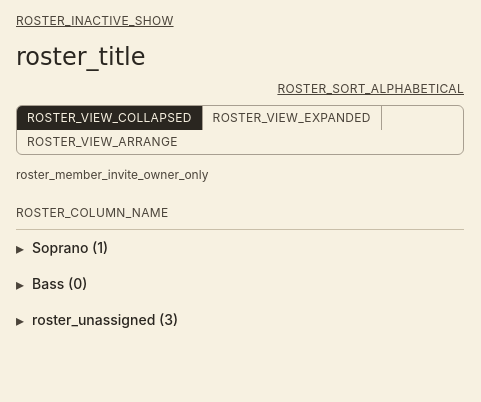
Test: /roster — F3: the org that gates remove is the AUTHENTICATED VIEWER's, not whoever sorts first › multi-org roster where a FOREIGN member sorts first alphabetically: the EFK viewer still gets a WORKING ✕ on EFK's empty Bass, and Sireen's empty section gets n
Expected: the element with test id "roster-groups" is shown, [16,230,464,338]
What coordinates should you click on to do the following:
click the button with test id "roster-view-chip-arrange"
I would click on:
 (102, 142)
Its box is [17,130,188,154].
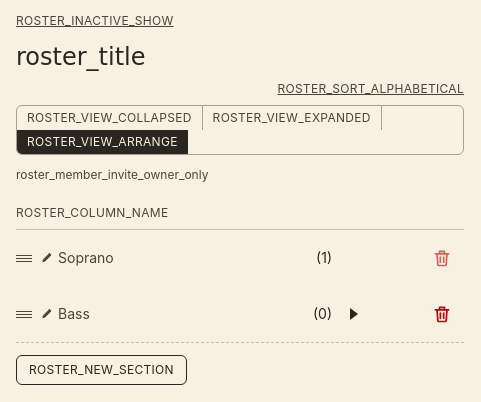
Expected: the element with test id "roster-arrange-list" is shown, [16,230,464,342]
